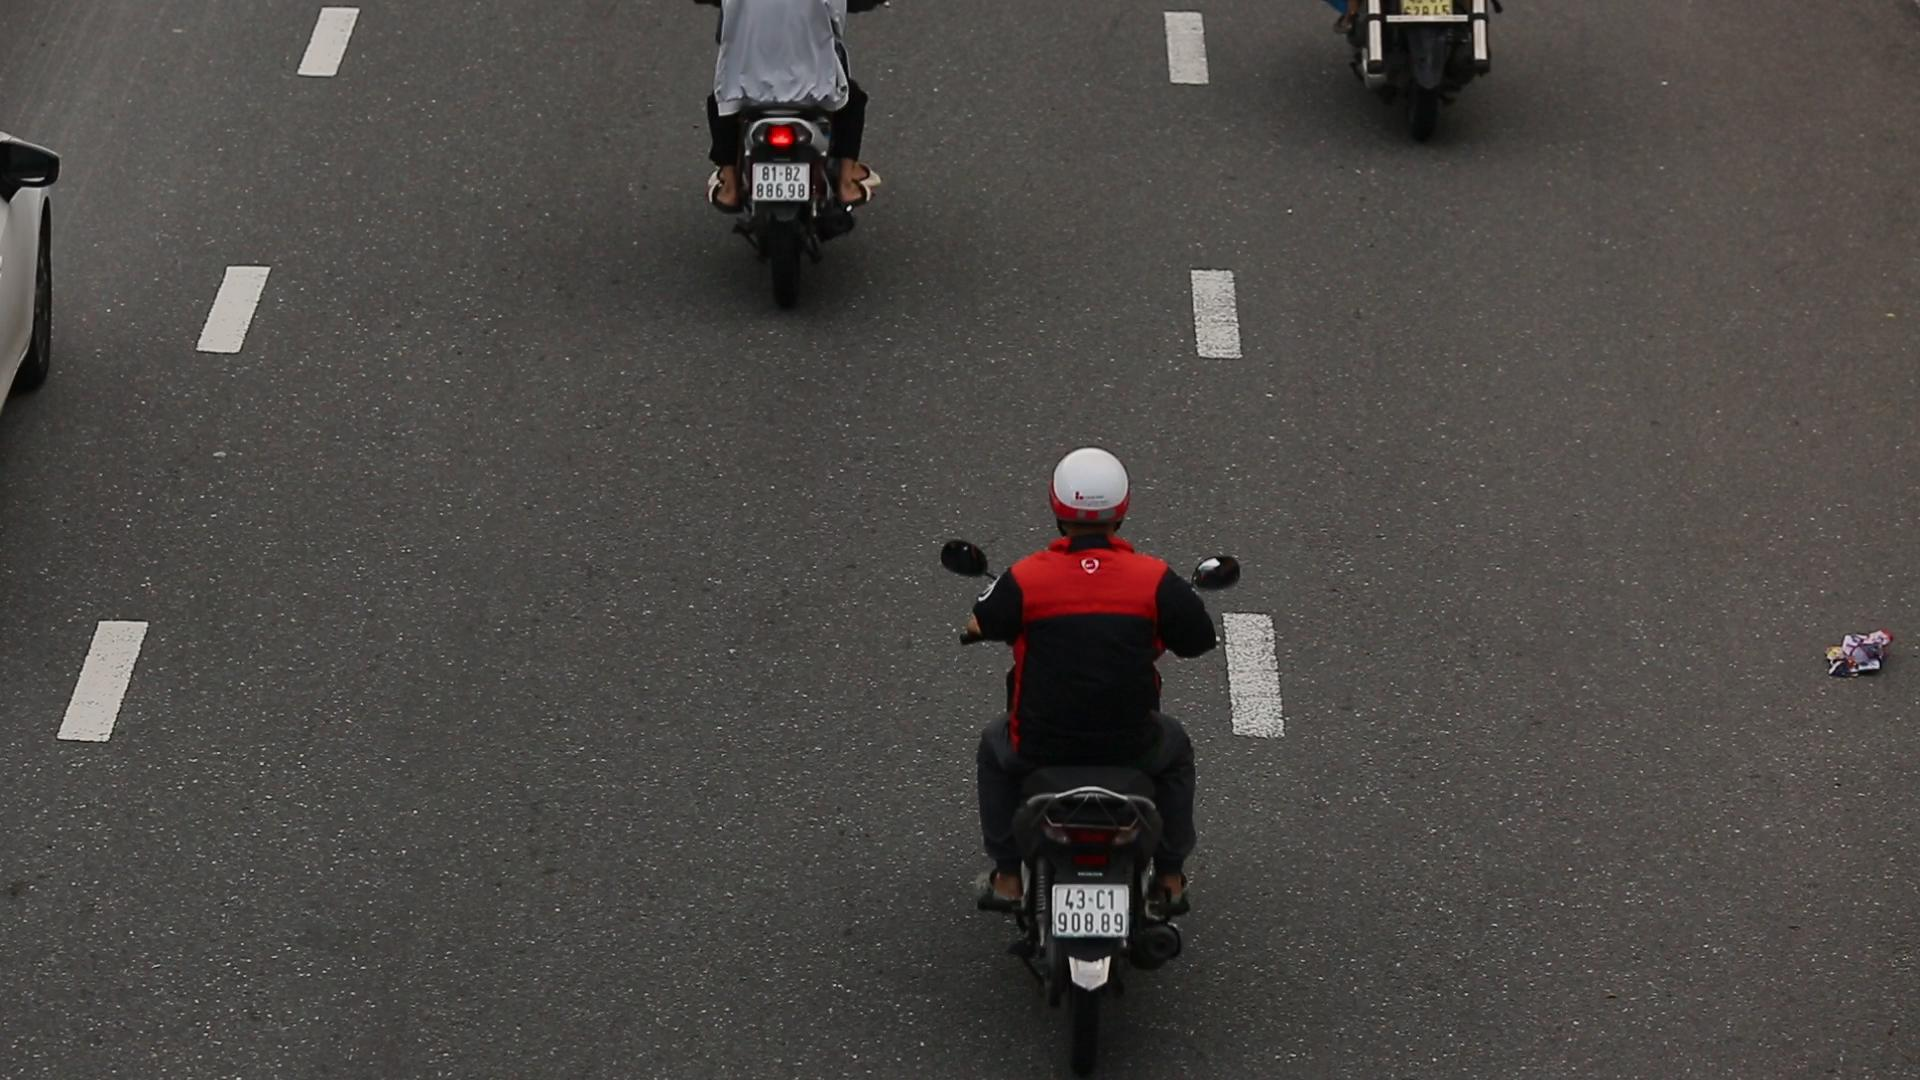motobike: (931, 431, 1255, 1069)
